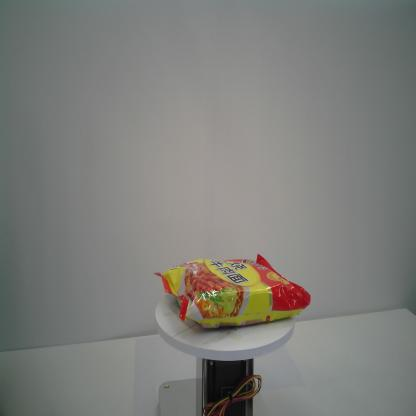Instant Noodles: (153, 253, 311, 330)
